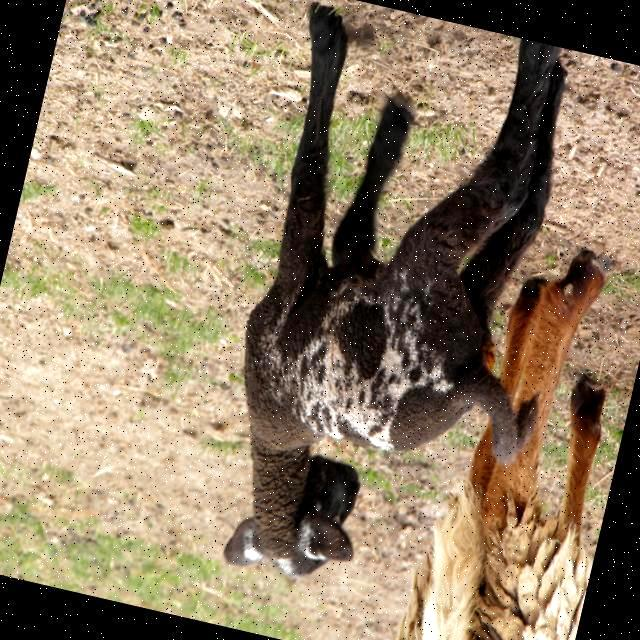sheep: (223, 4, 566, 576), (398, 252, 605, 640)
